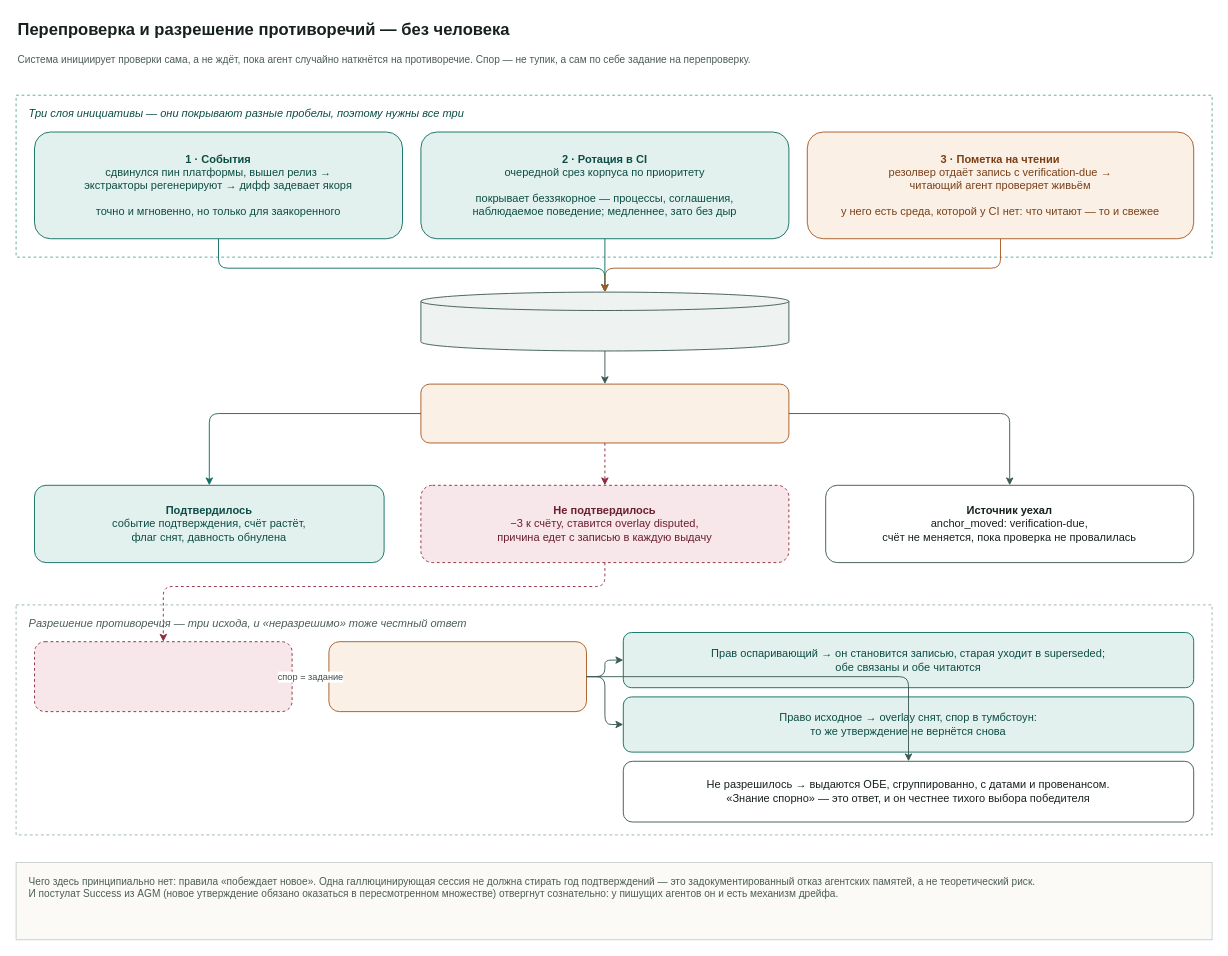
The diagram is 1228 pixels wide and 956 high, and some of its shapes have lost their labels. The centre of each missing label's shape, as x and y in pixels:
"recheck-queue.json приоритет: due → цитируемость → давность" belongs at point (604, 321).
"Исполняет агент в сессии CI умеет только детерминированные проверки якорей" belongs at point (604, 413).
"Перепроверка из источников свежими доказательствами" belongs at point (457, 676).
"Спор с доказательством агент · дрейф · человек" belongs at point (163, 676).
